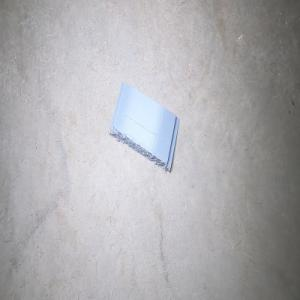PlasticPart: (108, 82, 179, 173)
